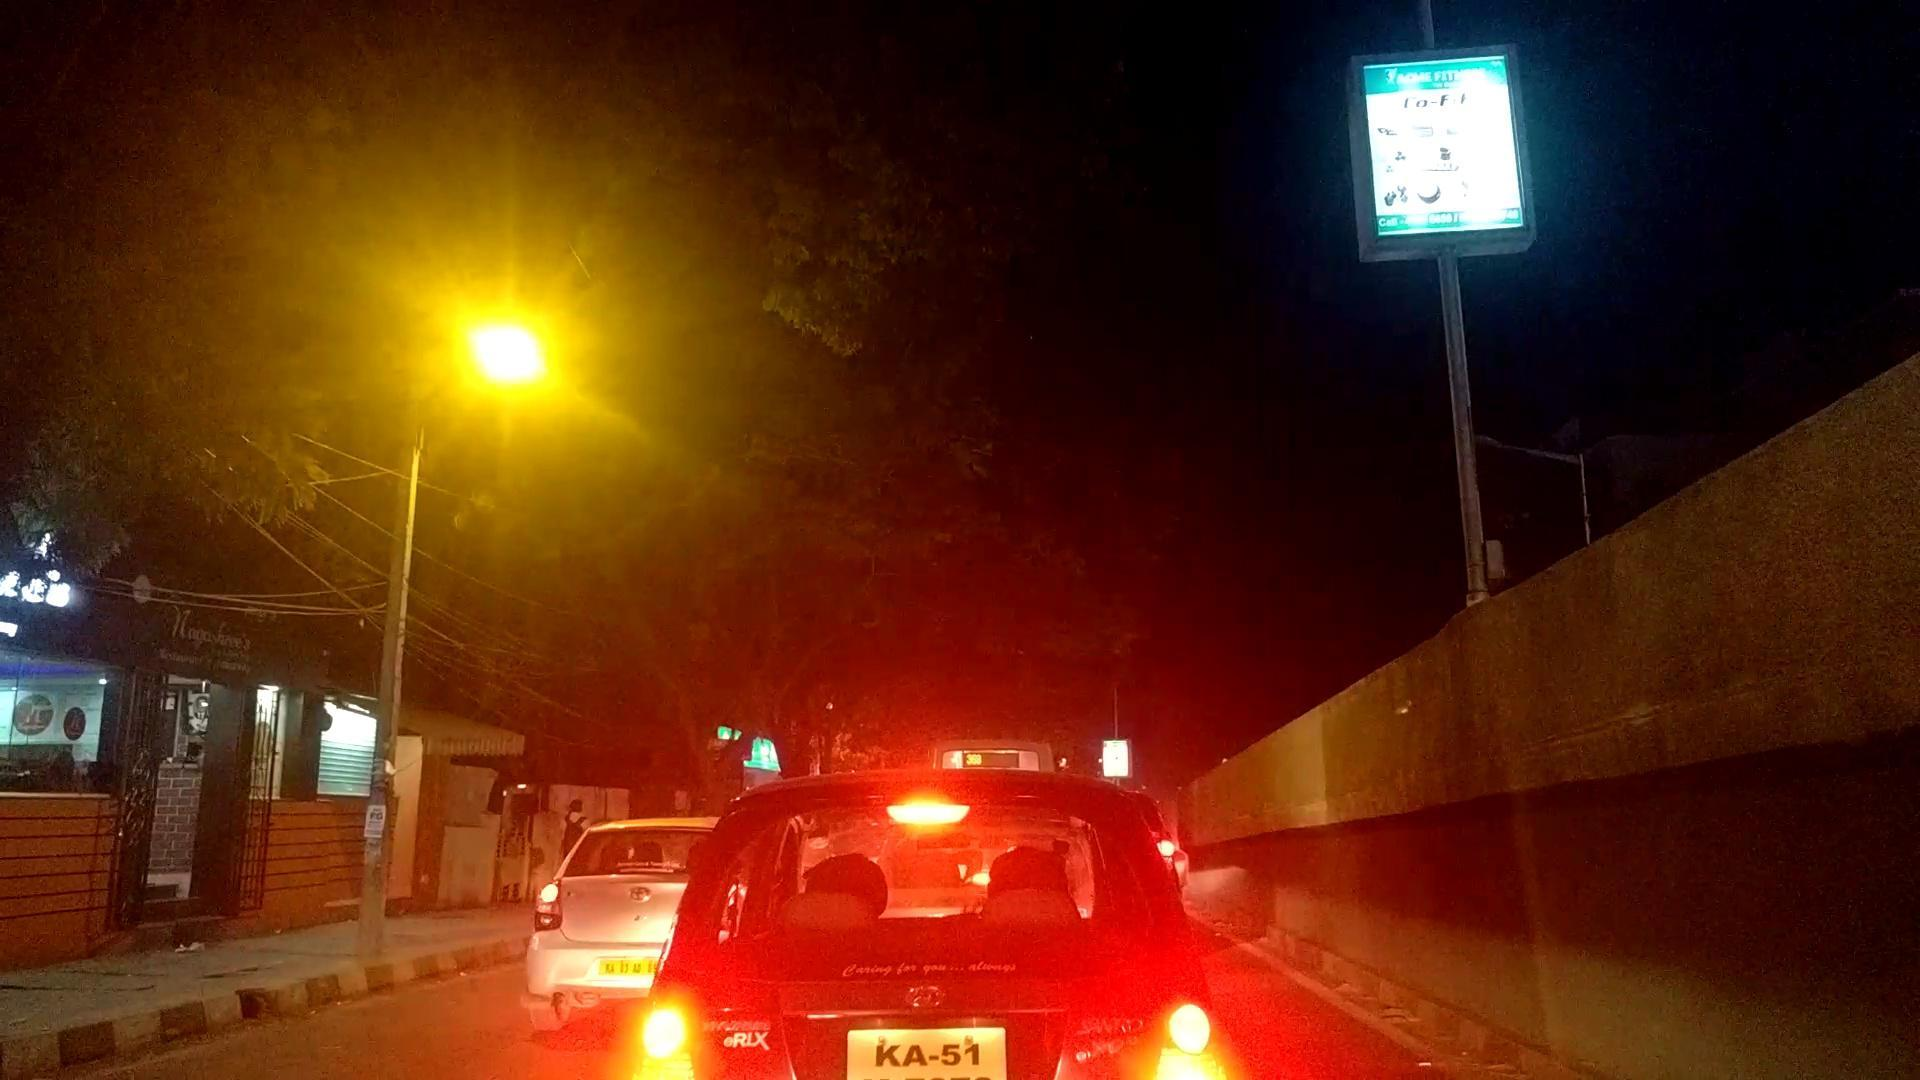on: (290, 162, 831, 563)
